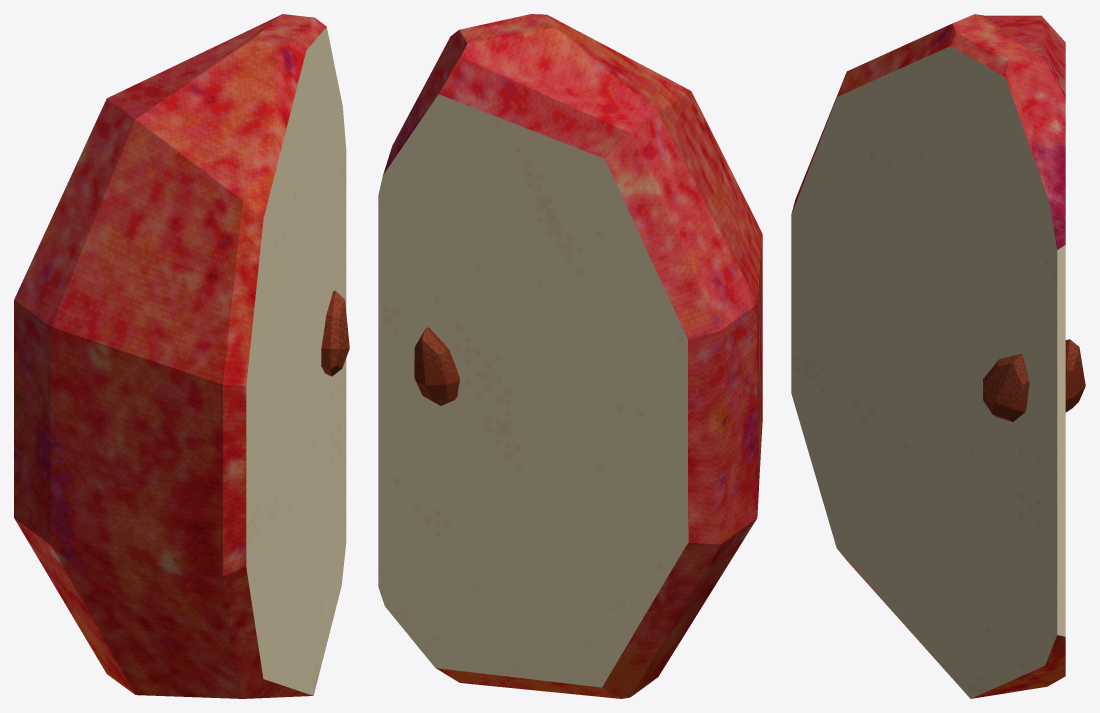
File: apple_stage2.fbx
The picture shows the model from 3 angles, left to right: view 1: azimuth 30°, elevation 25°; view 2: azimuth 150°, elevation 25°; view 3: azimuth 270°, elevation 25°; orthographic projection.
Visible parts, largest first — view 1: Apple, Seed 1; view 2: Apple, Seed 2; view 3: Apple, Seed 1, Seed 2.
Boxes of the visible parts, left/top/right/bottom form: Apple: left=14, top=14, right=346, bottom=698; Seed 1: left=321, top=290, right=349, bottom=376; Apple: left=378, top=14, right=762, bottom=698; Seed 2: left=414, top=327, right=459, bottom=405; Apple: left=791, top=14, right=1065, bottom=698; Seed 1: left=982, top=353, right=1029, bottom=421; Seed 2: left=1065, top=339, right=1085, bottom=412.
Size of the model in its own units: 1136 by 868 by 2132.
